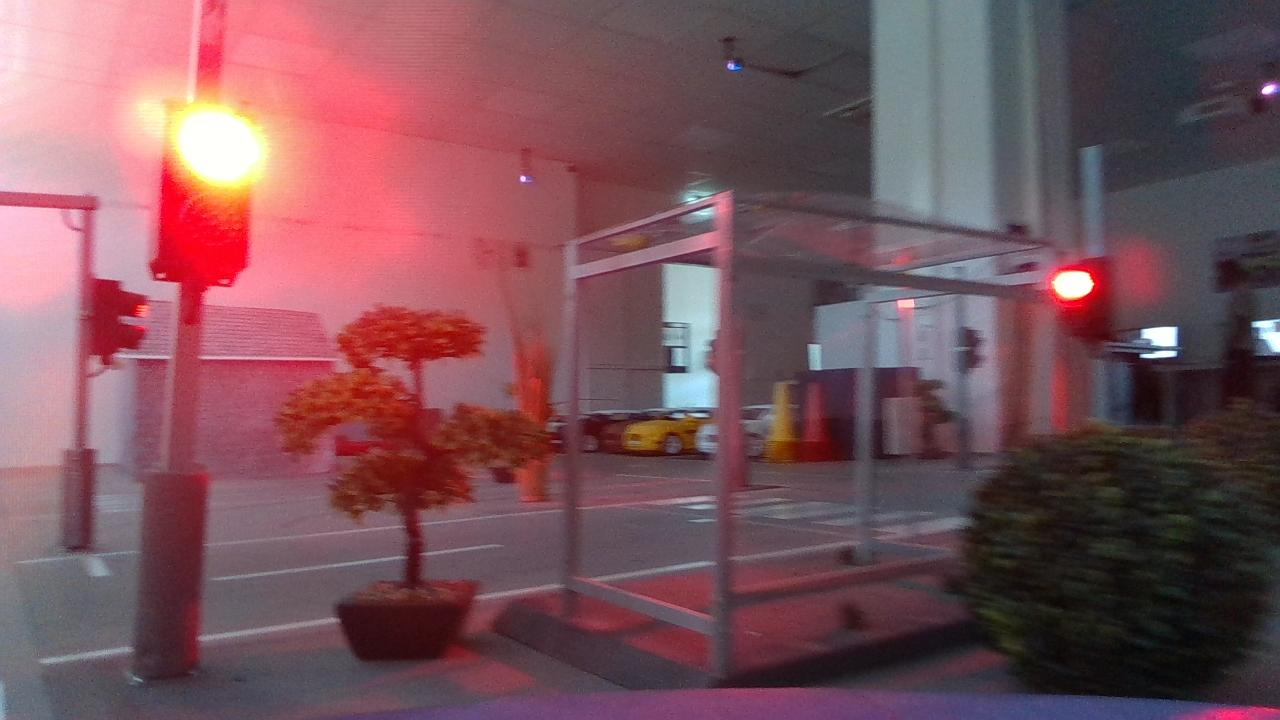traffic_light_red: (127, 81, 281, 307)
